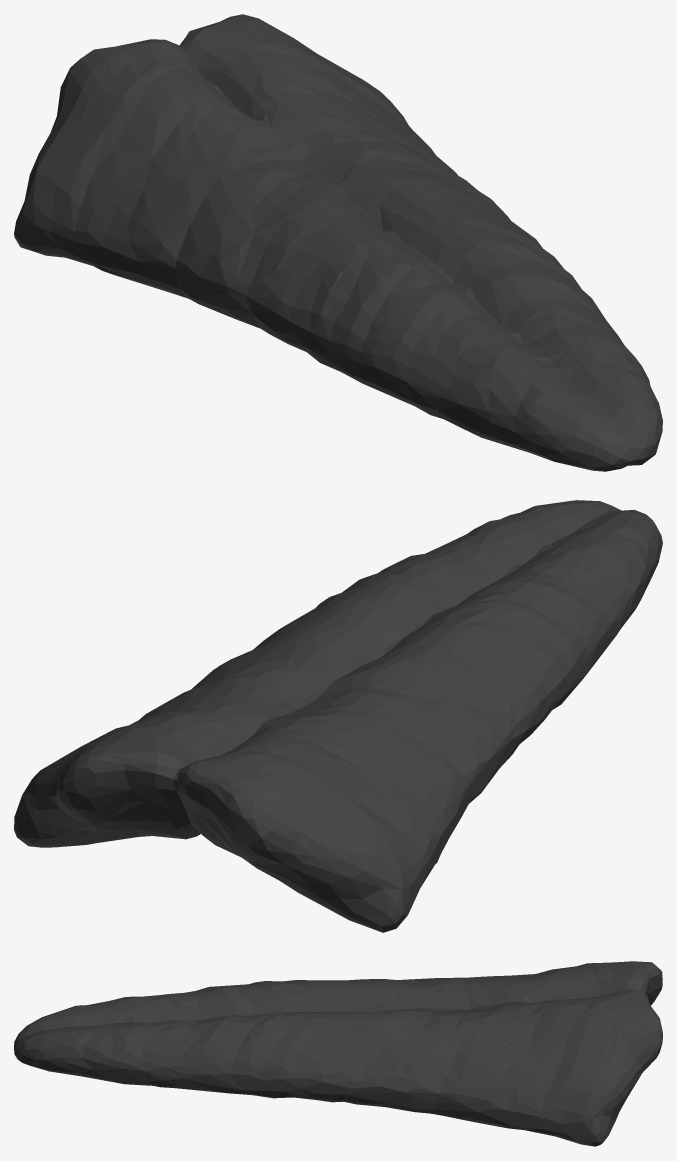
Rendered from m_mylohyoideus.glb.
3 views of the same model, one above another, from view 1: azimuth 30°, elevation 25°; view 2: azimuth 150°, elevation 25°; view 3: azimuth 270°, elevation 25° (orthographic). The views are drawn at different scales.
Parts seen in each view (by area): view 1: m_mylohyoideus; view 2: m_mylohyoideus; view 3: m_mylohyoideus.
Part boxes in pixels (x1=…): m_mylohyoideus: x1=14, y1=14, x2=662, y2=471; m_mylohyoideus: x1=14, y1=500, x2=662, y2=932; m_mylohyoideus: x1=14, y1=961, x2=662, y2=1146.
Bounding box in the file's own units: 0.00151 × 0.000559 × 0.00318.
Materials: 1 (1 with a texture image).
